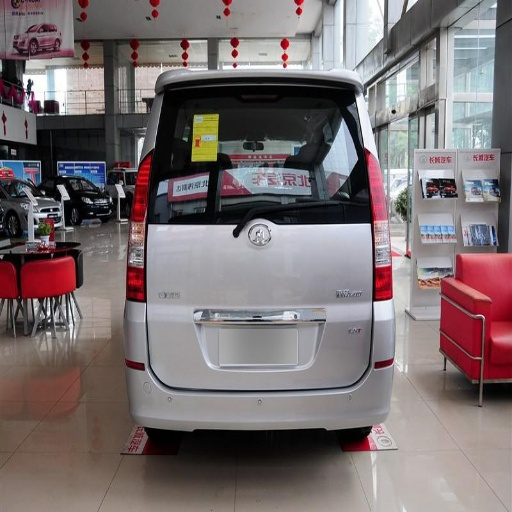back_bumper: (125, 301, 391, 429)
tailgate: (156, 335, 359, 385)
